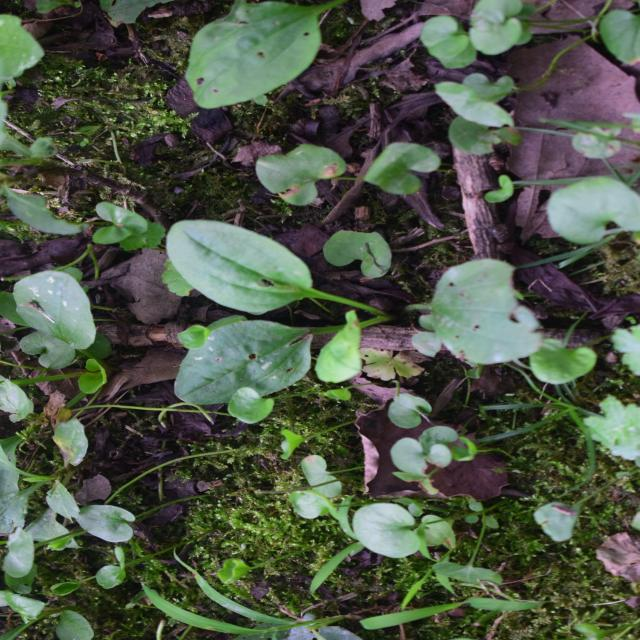plantain: (230, 167, 460, 502)
